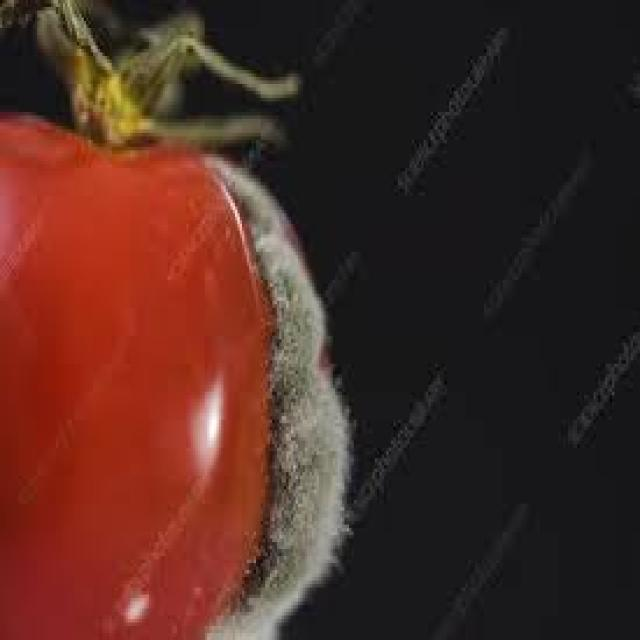food_waste: (0, 115, 347, 637)
